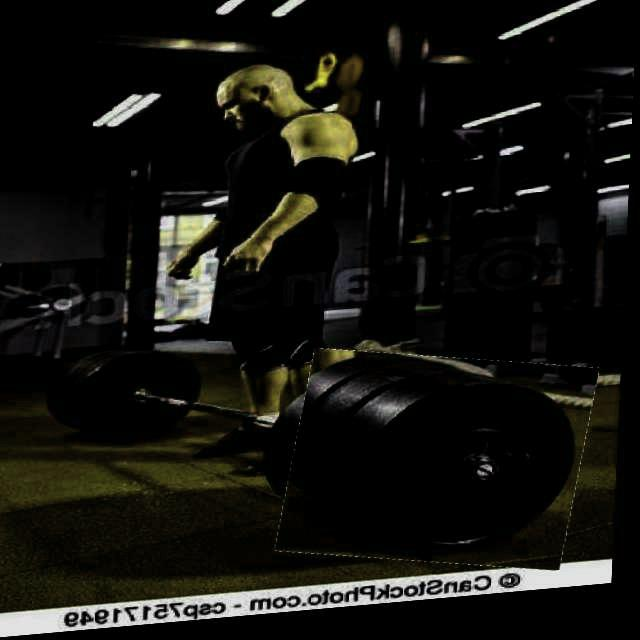barbell: (287, 347, 597, 590)
